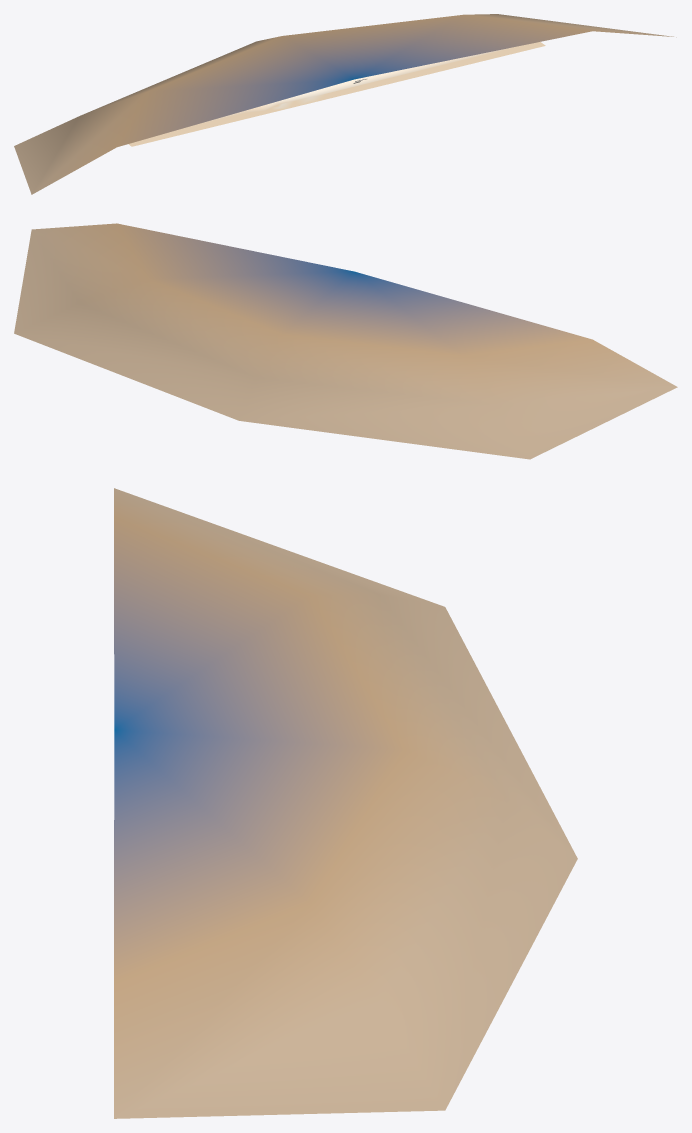
The model's file is Desert_Bg.fbx.
The picture shows the model from 3 angles, top to bottom: view 1: azimuth 30°, elevation 25°; view 2: azimuth 150°, elevation 25°; view 3: azimuth 270°, elevation 25°; orthographic projection. The views are drawn at different scales.
Parts seen in each view (by area): view 1: LightBg_01, GroundBg_01; view 2: LightBg_01; view 3: LightBg_01.
Part boxes in pixels (x1,y1,x2,y2): LightBg_01: [14, 14, 676, 194]; GroundBg_01: [128, 42, 545, 146]; LightBg_01: [14, 223, 677, 459]; LightBg_01: [114, 488, 577, 1118].
Bounding box in the file's own units: 1097153 × 104431 × 340903.
